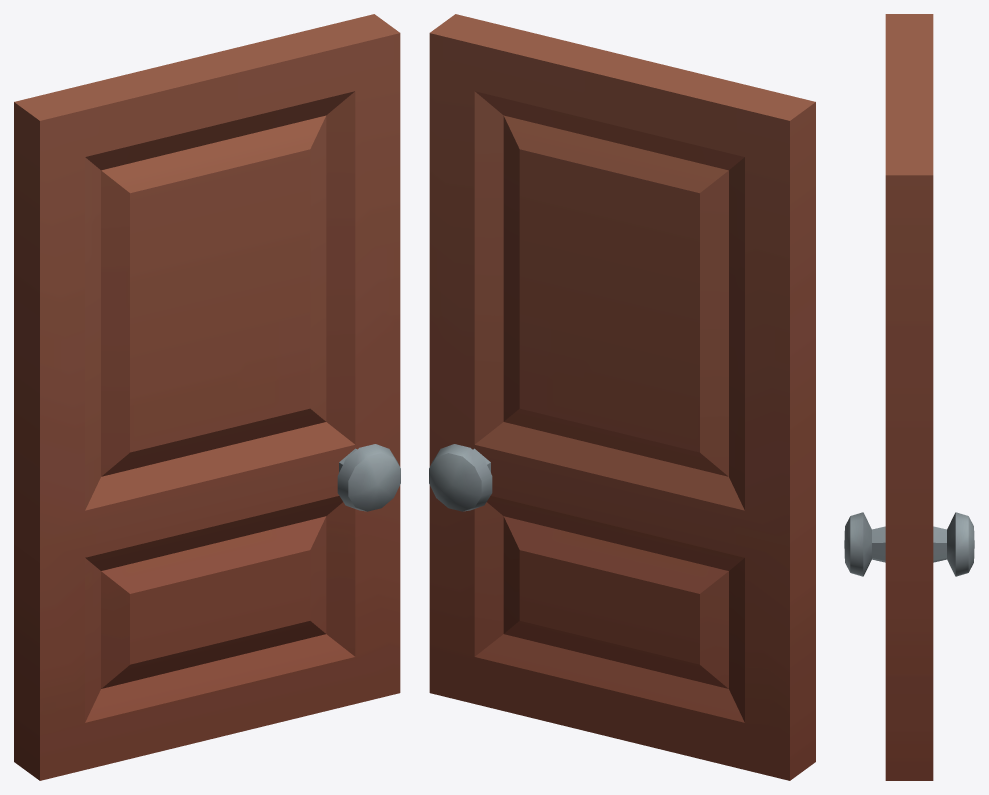
Rendered from door.glb.
3 views of the same model, side by side, from view 1: azimuth 30°, elevation 25°; view 2: azimuth 150°, elevation 25°; view 3: azimuth 270°, elevation 25° (orthographic). The views are drawn at different scales.
Parts seen in each view (by area): view 1: Door_A; view 2: Door_A; view 3: Door_A.
Boxes of the visible parts, x1,y1,x2,y2 form: Door_A: (14, 14, 400, 780); Door_A: (429, 14, 815, 780); Door_A: (844, 14, 974, 780).
Size of the model in its own units: 1.17 by 2.05 by 0.3997.
Materials: 1 (1 with a texture image).
